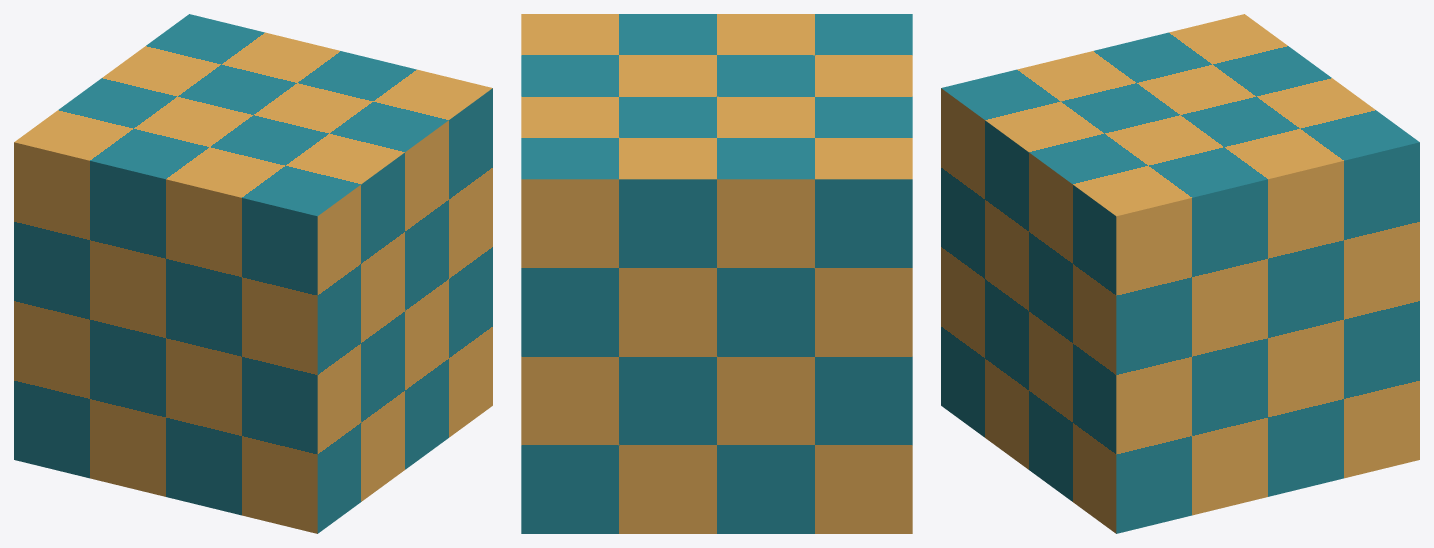
3 renders of one model, left to right at view 1: azimuth 30°, elevation 25°; view 2: azimuth 150°, elevation 25°; view 3: azimuth 270°, elevation 25°, orthographic. The views are drawn at different scales.
Visible parts, largest first — view 1: Original checker cube; view 2: Original checker cube; view 3: Original checker cube.
Part boxes in pixels (box(x1,y1,x2,y2)): Original checker cube: box(14, 14, 492, 533); Original checker cube: box(521, 14, 912, 533); Original checker cube: box(941, 14, 1419, 533).
Bounding box in the file's own units: 2.73 × 2 × 2.73.
Materials: 1 (1 with a texture image).
